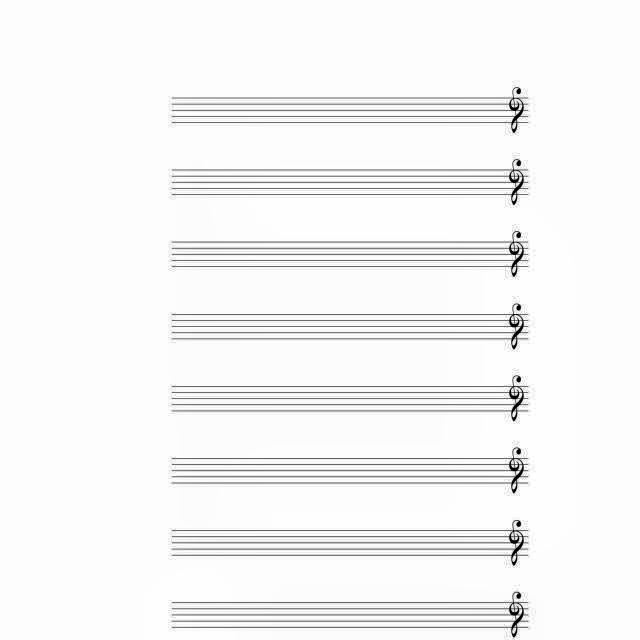Treble-clef: (506, 230, 526, 278), (508, 303, 526, 352), (508, 446, 526, 494), (508, 158, 526, 206), (509, 518, 525, 568), (508, 373, 524, 422), (508, 591, 524, 639), (508, 86, 524, 134)
